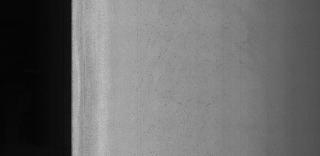silk spot: (139, 8, 209, 122)
